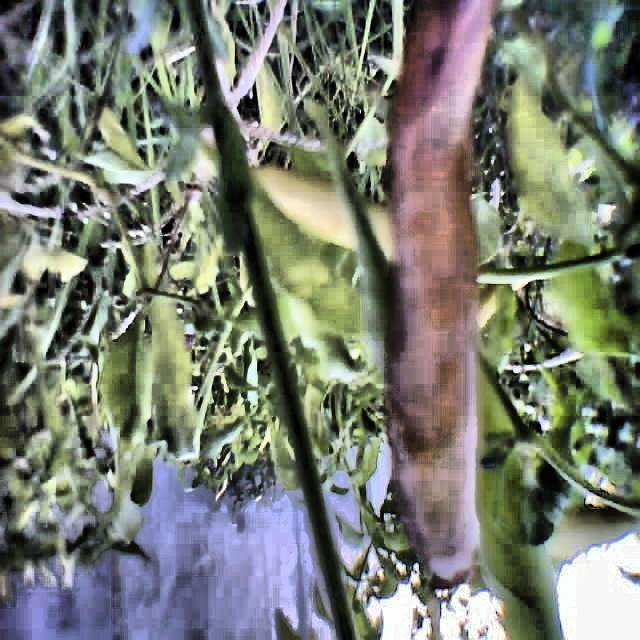Cabai: (386, 0, 506, 567)
